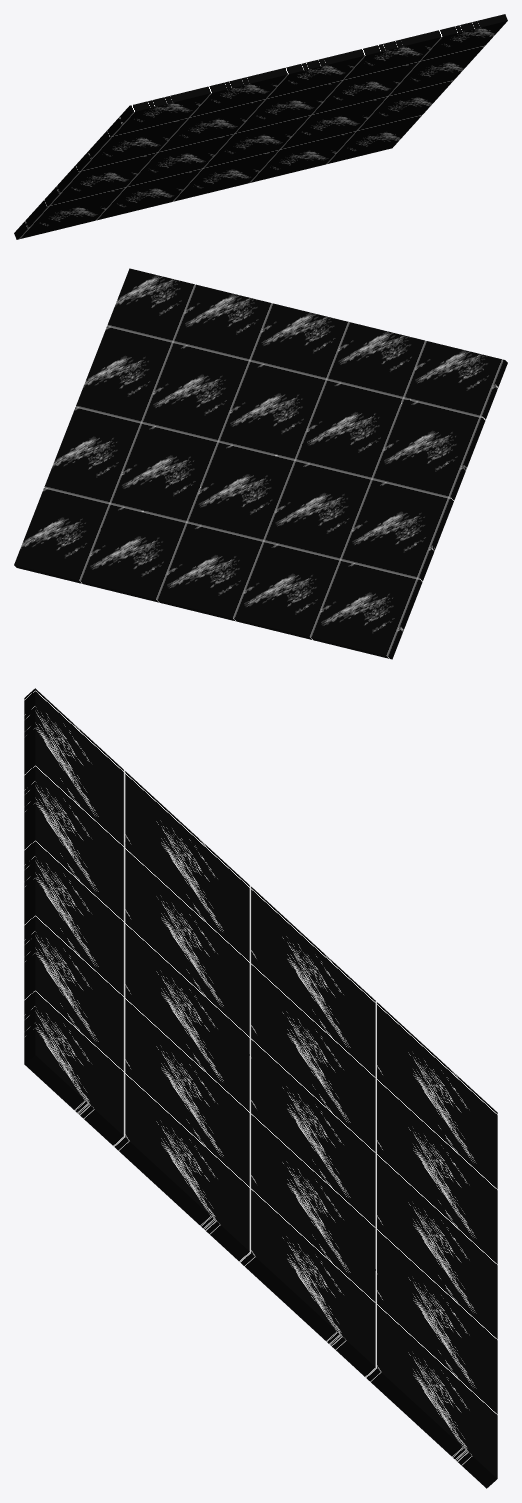
The model's file is B_axis_collider_6.glb.
3 renders of one model, top to bottom at view 1: azimuth 30°, elevation 25°; view 2: azimuth 150°, elevation 25°; view 3: azimuth 270°, elevation 25°, orthographic. The views are drawn at different scales.
Parts seen in each view (by area): view 1: B_Axis_wall_collide.6; view 2: B_Axis_wall_collide.6; view 3: B_Axis_wall_collide.6.
Boxes of the visible parts, x1,y1,x2,y2 form: B_Axis_wall_collide.6: (14,14,507,239); B_Axis_wall_collide.6: (14,268,507,659); B_Axis_wall_collide.6: (24,688,497,1488).
Size of the model in its own units: 9.2 by 5.07 by 5.01.
1 material, 1 textured.
